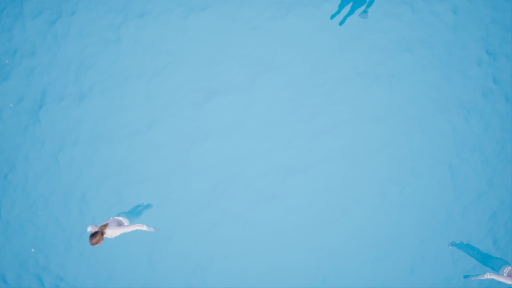person: (90, 199, 164, 251)
